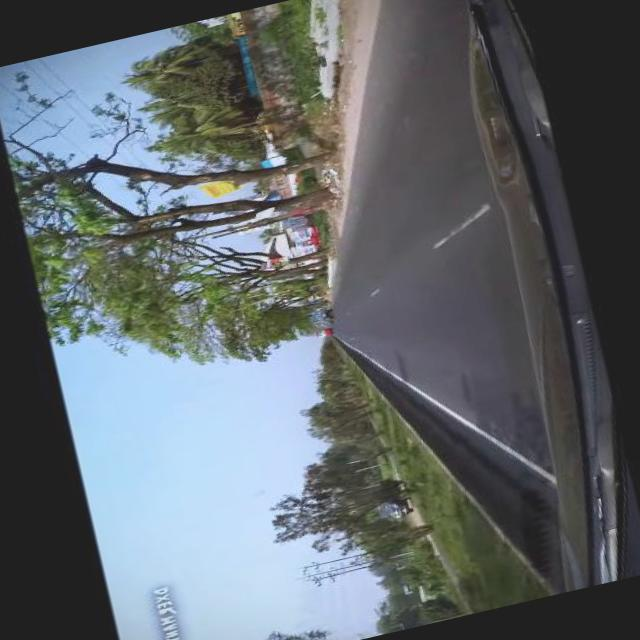bus: (313, 326, 330, 336)
truck: (368, 474, 410, 520), (306, 306, 331, 322)
